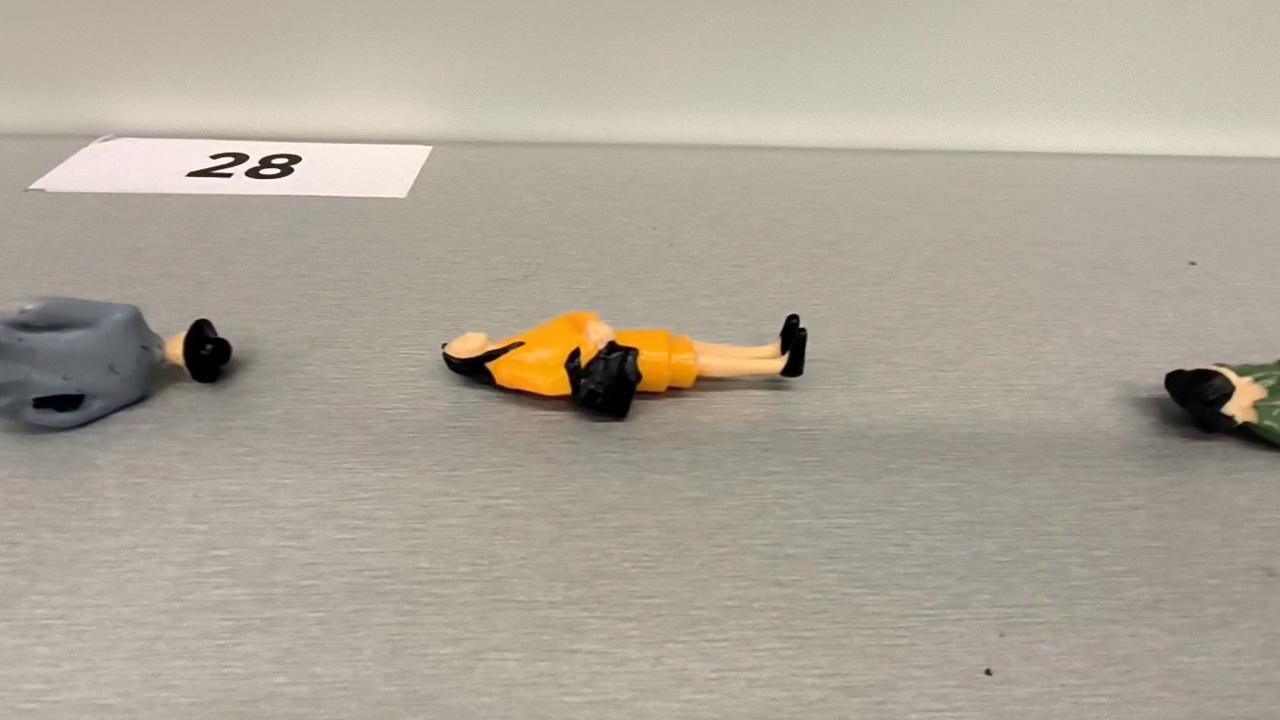human: (445, 314, 807, 420), (0, 294, 239, 436), (1163, 358, 1280, 454)
